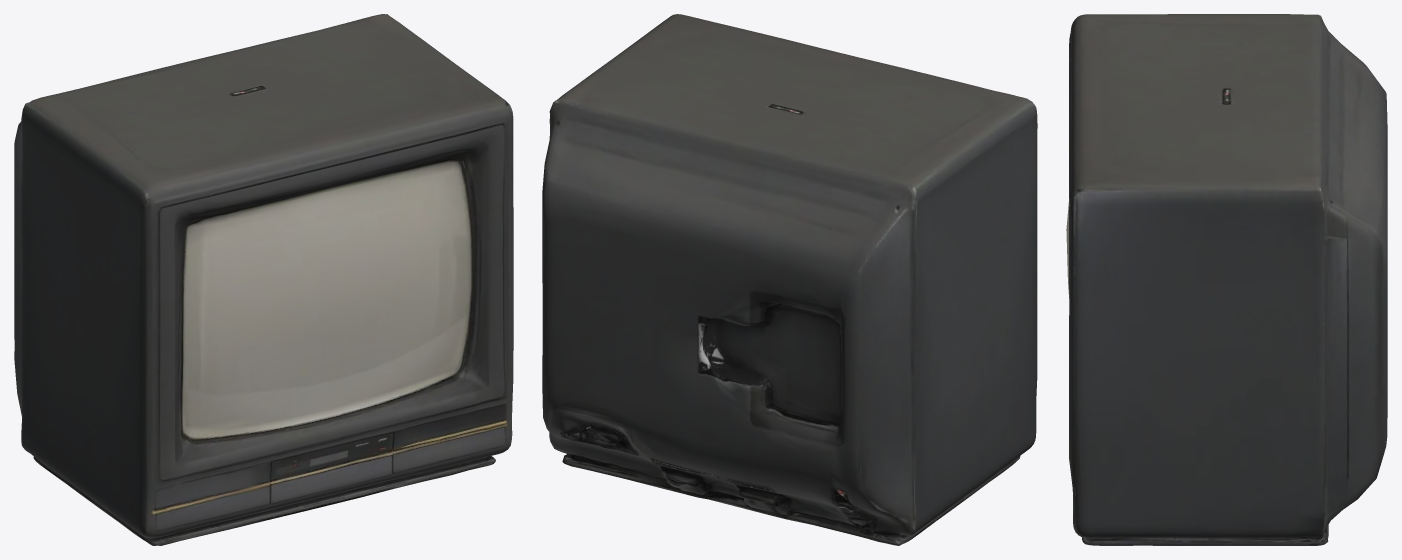
File: Meshy_AI_CRT_Monitor_0228035658_texture.glb
The picture shows the model from 3 angles, left to right: view 1: azimuth 30°, elevation 25°; view 2: azimuth 150°, elevation 25°; view 3: azimuth 270°, elevation 25°; orthographic projection.
Visible parts, largest first — view 1: Mesh0; view 2: Mesh0; view 3: Mesh0.
Boxes of the visible parts, <box> form: Mesh0: <box>14,14,513,545</box>; Mesh0: <box>542,14,1037,545</box>; Mesh0: <box>1066,14,1387,545</box>.
Bounding box in the file's own units: 1.06 × 1 × 0.8006.
1 material, 1 textured.
